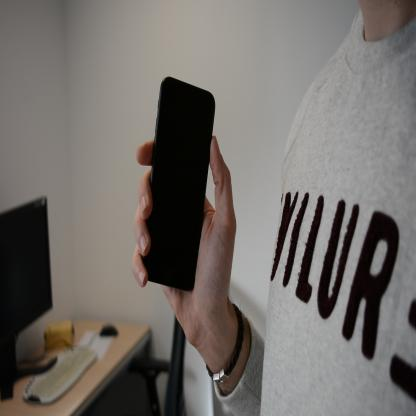smartphone: (140, 75, 216, 293)
